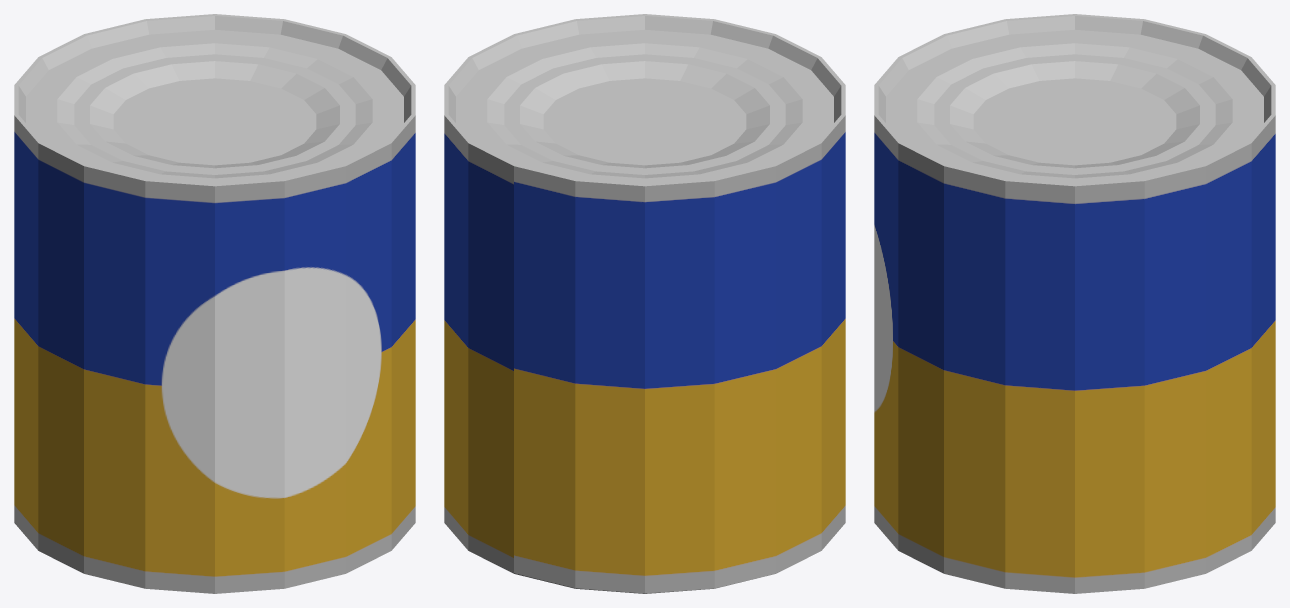
The model's file is canned food.obj.
3 views of the same model, side by side, from view 1: azimuth 30°, elevation 25°; view 2: azimuth 150°, elevation 25°; view 3: azimuth 270°, elevation 25° (orthographic).
Visible parts, largest first — view 1: Cylinder001; view 2: Cylinder001; view 3: Cylinder001.
Part boxes in pixels (x1,y1,x2,y2): Cylinder001: [14, 14, 415, 593]; Cylinder001: [444, 14, 845, 593]; Cylinder001: [874, 14, 1275, 593].
Bounding box in the file's own units: 51.84 × 57.19 × 51.06.
